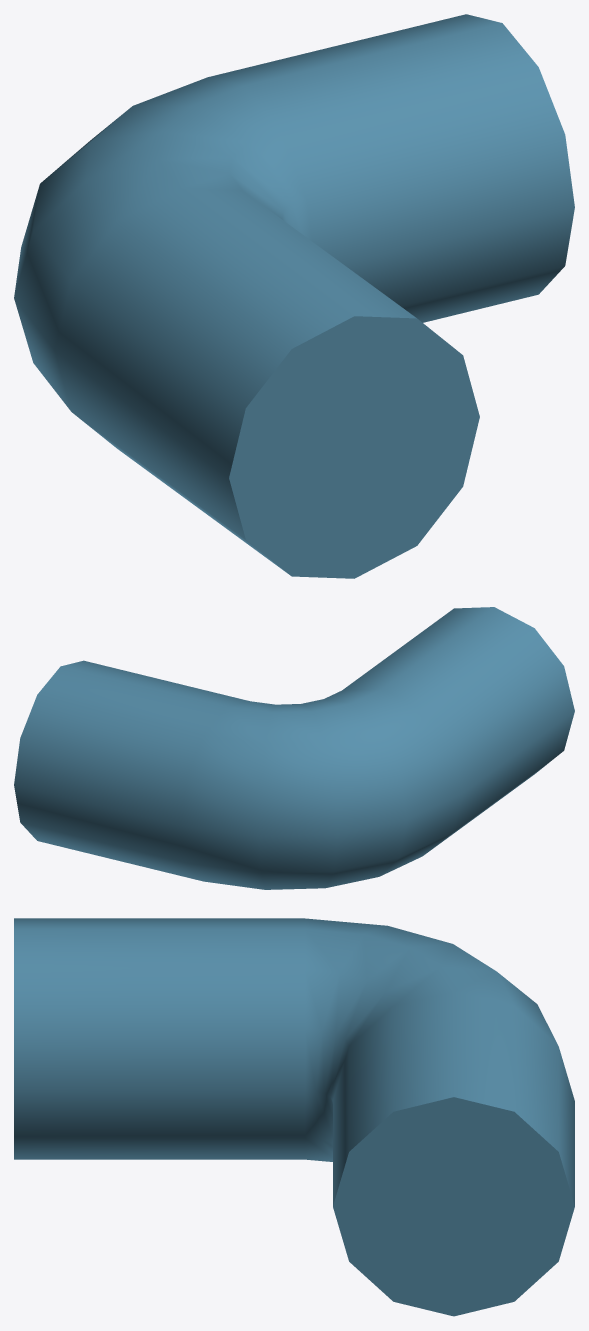
Rendered from GJ_Decor_Pile_06.fbx.
The picture shows the model from 3 angles, top to bottom: view 1: azimuth 30°, elevation 25°; view 2: azimuth 150°, elevation 25°; view 3: azimuth 270°, elevation 25°; orthographic projection. The views are drawn at different scales.
Parts seen in each view (by area): view 1: GJ_Decor_Pile_06; view 2: GJ_Decor_Pile_06; view 3: GJ_Decor_Pile_06.
Boxes of the visible parts, x1,y1,x2,y2 form: GJ_Decor_Pile_06: (14,14,574,578); GJ_Decor_Pile_06: (14,607,574,889); GJ_Decor_Pile_06: (14,918,574,1316).
Size of the model in its own units: 8.87 by 4.15 by 9.61.
